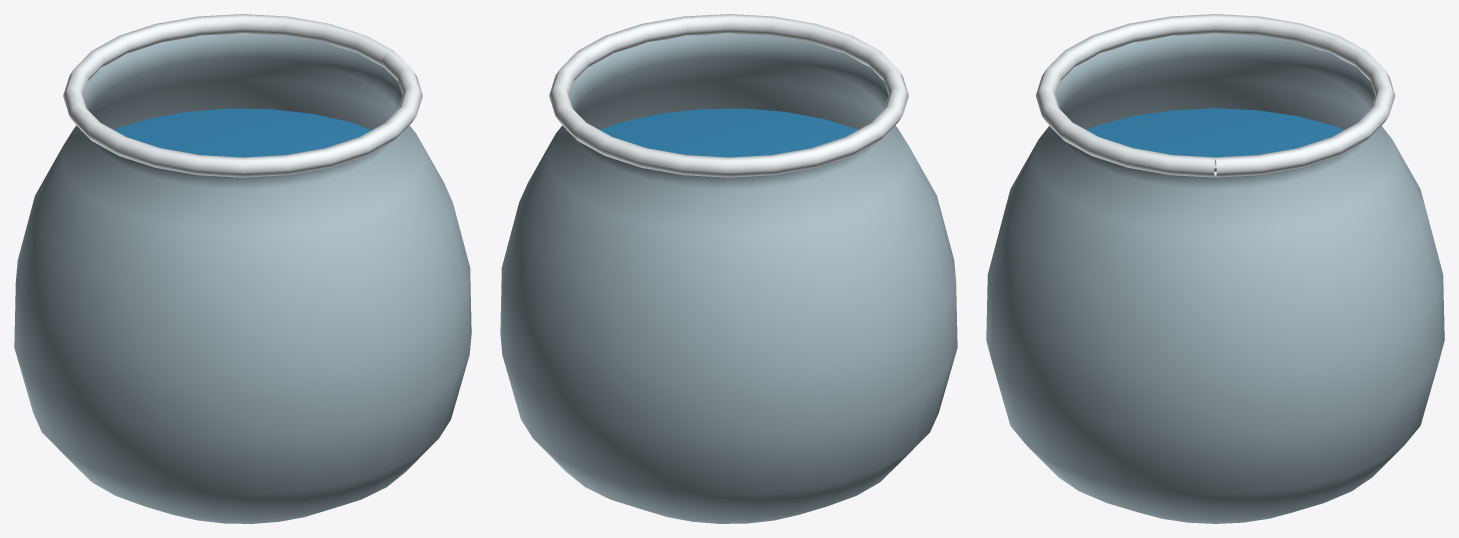
Rendered from furn_fish_bowl.glb.
3 views of the same model, side by side, from view 1: azimuth 30°, elevation 25°; view 2: azimuth 150°, elevation 25°; view 3: azimuth 270°, elevation 25° (orthographic).
Parts seen in each view (by area): view 1: furn_fish_bowl_clear, furn_fish_bowl_gloss; view 2: furn_fish_bowl_clear, furn_fish_bowl_gloss; view 3: furn_fish_bowl_clear, furn_fish_bowl_gloss.
Boxes of the visible parts, bbox=[...] form: furn_fish_bowl_clear: bbox=[14, 33, 471, 523]; furn_fish_bowl_gloss: bbox=[63, 14, 422, 177]; furn_fish_bowl_clear: bbox=[500, 33, 957, 523]; furn_fish_bowl_gloss: bbox=[549, 14, 908, 177]; furn_fish_bowl_clear: bbox=[986, 33, 1444, 523]; furn_fish_bowl_gloss: bbox=[1035, 14, 1395, 177].
Bounding box in the file's own units: 0.316 × 0.2921 × 0.316.
